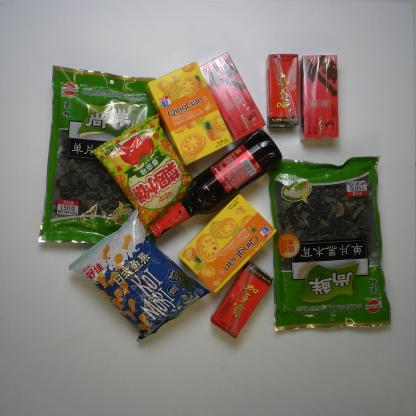Alcohol: (148, 130, 284, 240)
Dessert: (178, 192, 276, 294), (146, 60, 232, 167)
Dried Food: (37, 63, 166, 246), (264, 153, 393, 334)
Drink: (211, 263, 276, 339), (265, 53, 301, 130)
Instant Drink: (197, 52, 265, 140), (300, 54, 339, 139)
Puffed Food: (70, 207, 212, 345), (92, 112, 196, 238)
